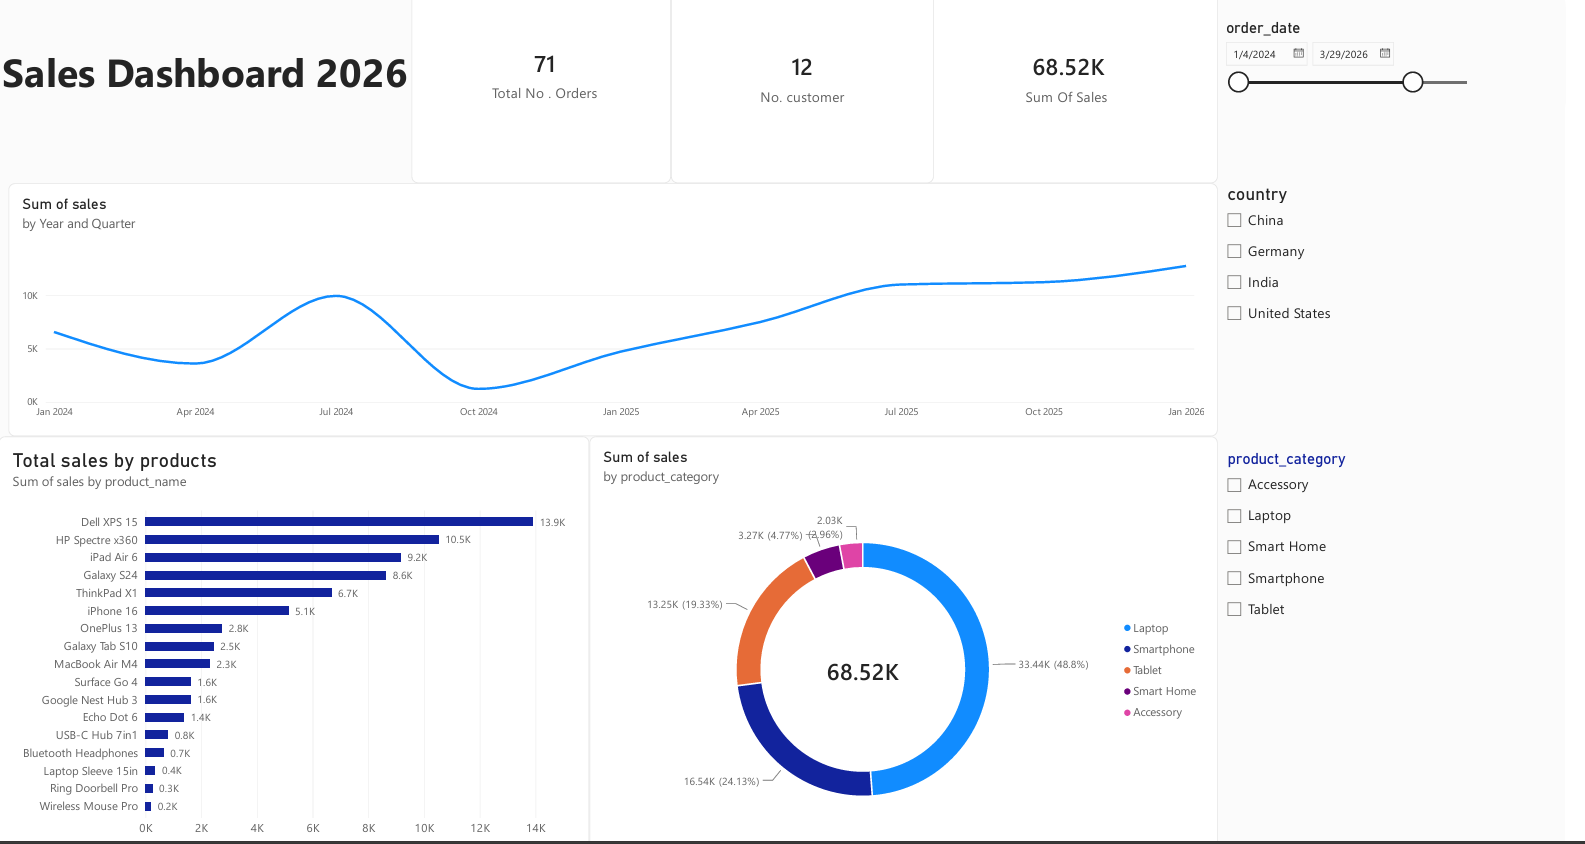

The dashboard page shown, as its layout file describes it:
{"tool":"powerbi","page":{"name":"Page 1","canvas":[1920,1080],"ordinal":0},"visuals":[{"type":"barChart","title":"Total sales by products","fields":{"Category":["orders.product_name"],"Y":["Sum(orders.sales)"]},"box":[0,568,724,512],"z":0},{"type":"donutChart","fields":{"Category":["orders.product_category"],"Y":["Sum(orders.sales)"]},"box":[724,568,770,512],"z":1000},{"type":"card","fields":{"Values":["CountNonNull(orders.order_id)"]},"box":[506,0,318,258],"z":2000},{"type":"card","fields":{"Values":["Sum(orders.sales)"]},"box":[1128,0,366,258],"z":4000},{"type":"lineChart","fields":{"Category":["orders.order_date.Variation.Date Hierarchy.Year","orders.order_date.Variation.Date Hierarchy.Quarter","orders.order_date.Variation.Date Hierarchy.Month","orders.order_date.Variation.Date Hierarchy.Day"],"Y":["Sum(orders.sales)"]},"box":[12,258,1482,310],"z":5000},{"type":"slicer","fields":{"Values":["customers.country"]},"box":[1498,258,266,264],"z":5001},{"type":"slicer","fields":{"Values":["orders.product_category"]},"box":[1498,584,200,352],"z":5002},{"type":"slicer","fields":{"Values":["orders.order_date"]},"box":[1496,56,322,180],"z":5003},{"type":"textbox","box":[0,88,506,170],"z":5004},{"type":"card","fields":{"Values":["CountNonNull(customers.customer_id)"]},"box":[824,0,322,258],"z":5005}]}

Visuals, with their boxes on the page's 1920x1080 design canvas (x1, y1, x2, y2). These are canvas units, not pixel positions in the 1585x844 screenshot, which may show the page scaled, cropped or inside an application window:
"Total sales by products" barChart: BBox(0, 568, 724, 1080)
donutChart - orders.product_category x Sum(orders.sales): BBox(724, 568, 1494, 1080)
card - CountNonNull(orders.order_id): BBox(506, 0, 824, 258)
card - Sum(orders.sales): BBox(1128, 0, 1494, 258)
lineChart - orders.order_date.Variation.Date Hierarchy.Year x orders.order_date.Variation.Date Hierarchy.Quarter: BBox(12, 258, 1494, 568)
slicer - customers.country: BBox(1498, 258, 1764, 522)
slicer - orders.product_category: BBox(1498, 584, 1698, 936)
slicer - orders.order_date: BBox(1496, 56, 1818, 236)
textbox: BBox(0, 88, 506, 258)
card - CountNonNull(customers.customer_id): BBox(824, 0, 1146, 258)
